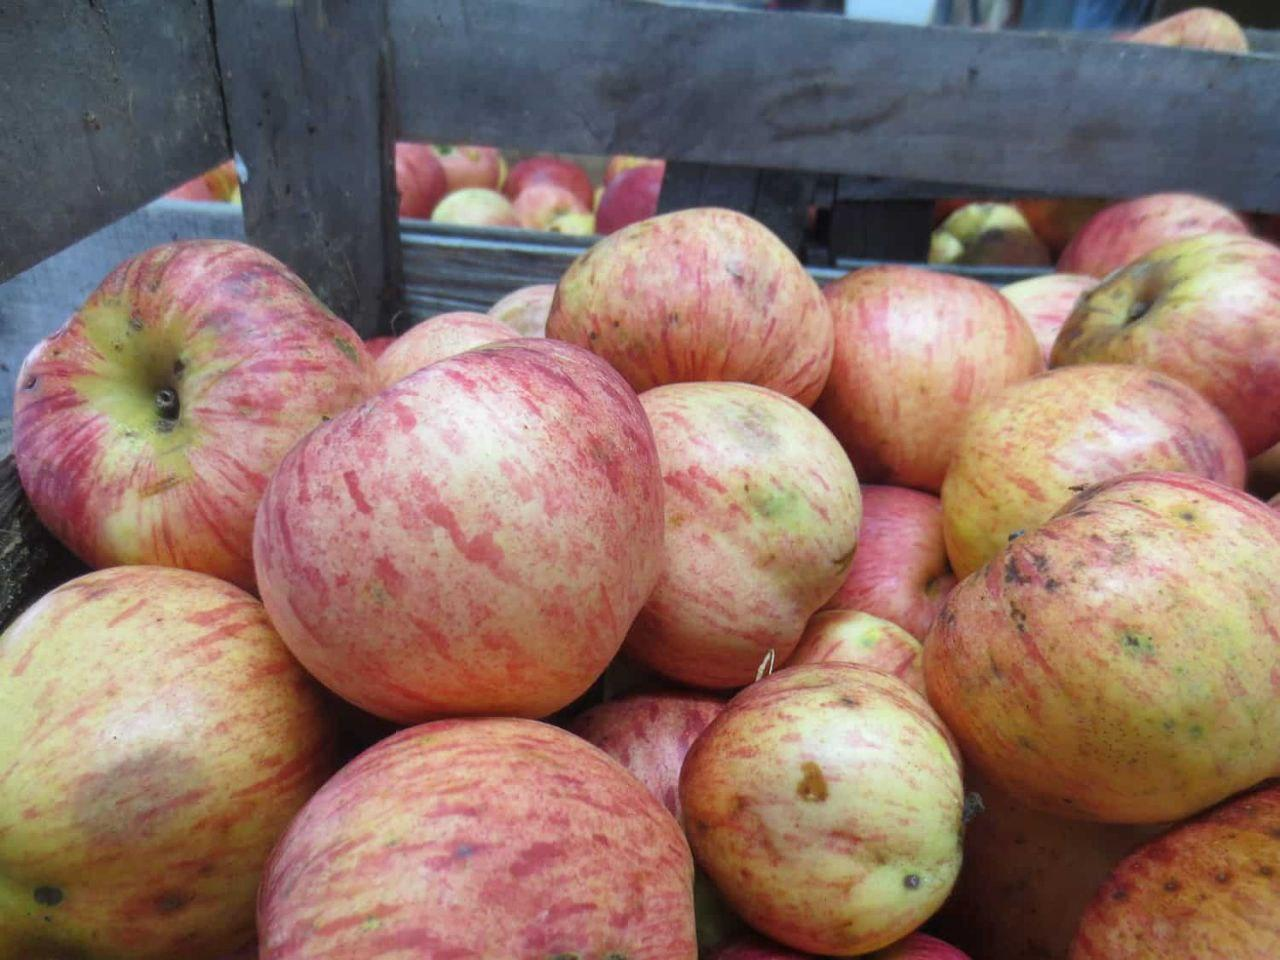Apple: (258, 342, 662, 722), (938, 482, 1280, 822)
